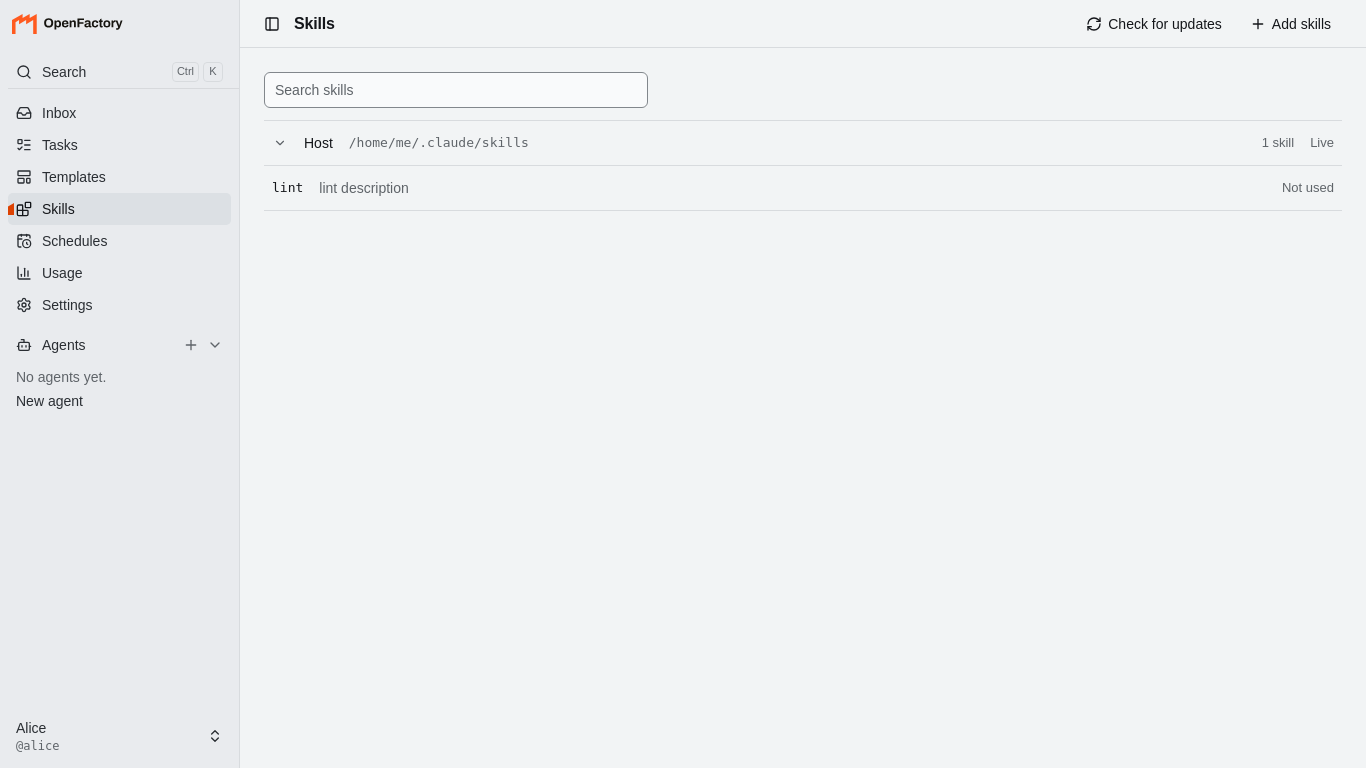
Scenario: a folder Find error for path lands on its field
Click the button "Add skills" at (1291, 24), box [1241,8,1342,40]
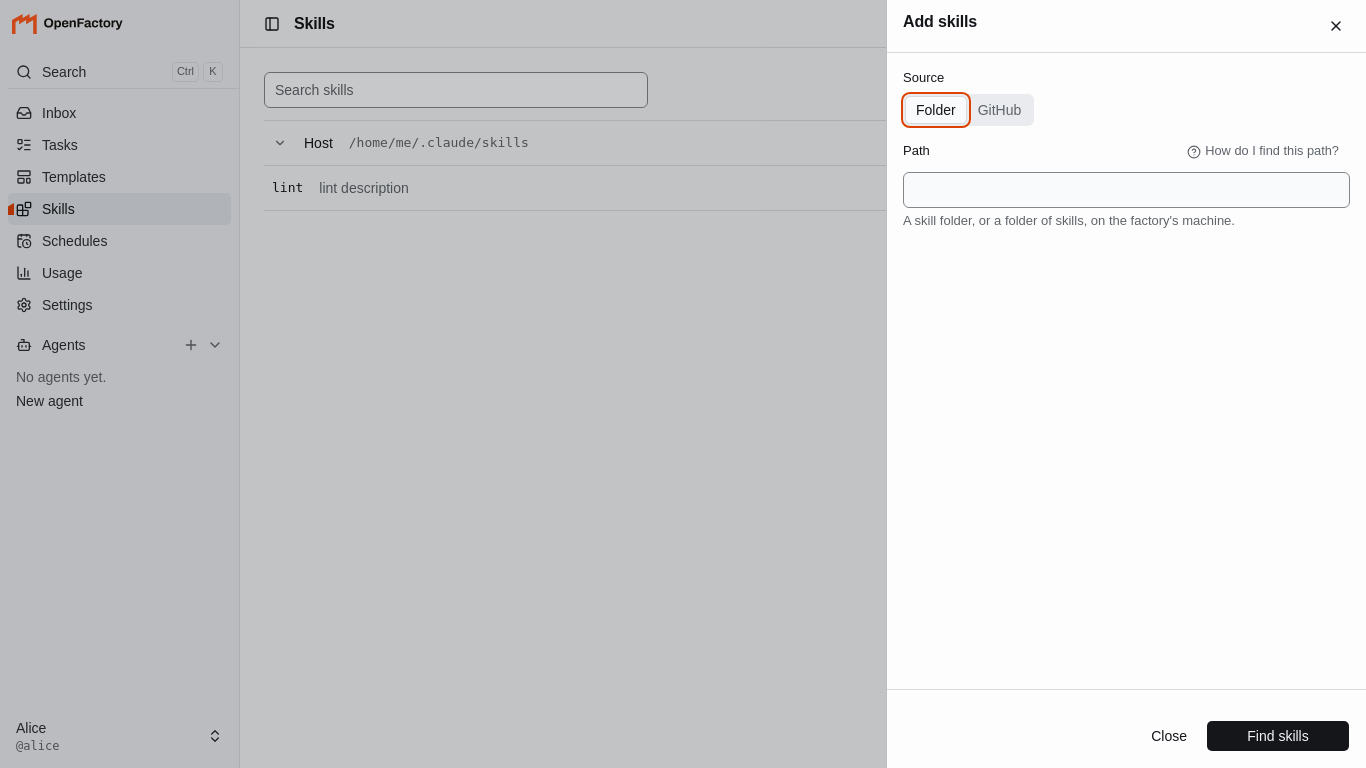
Expected: the form named "Add skills" is shown, [887,53,1365,767]
Type "~/" into the field labelled "Path" at (1126, 190), box [903,172,1350,208]
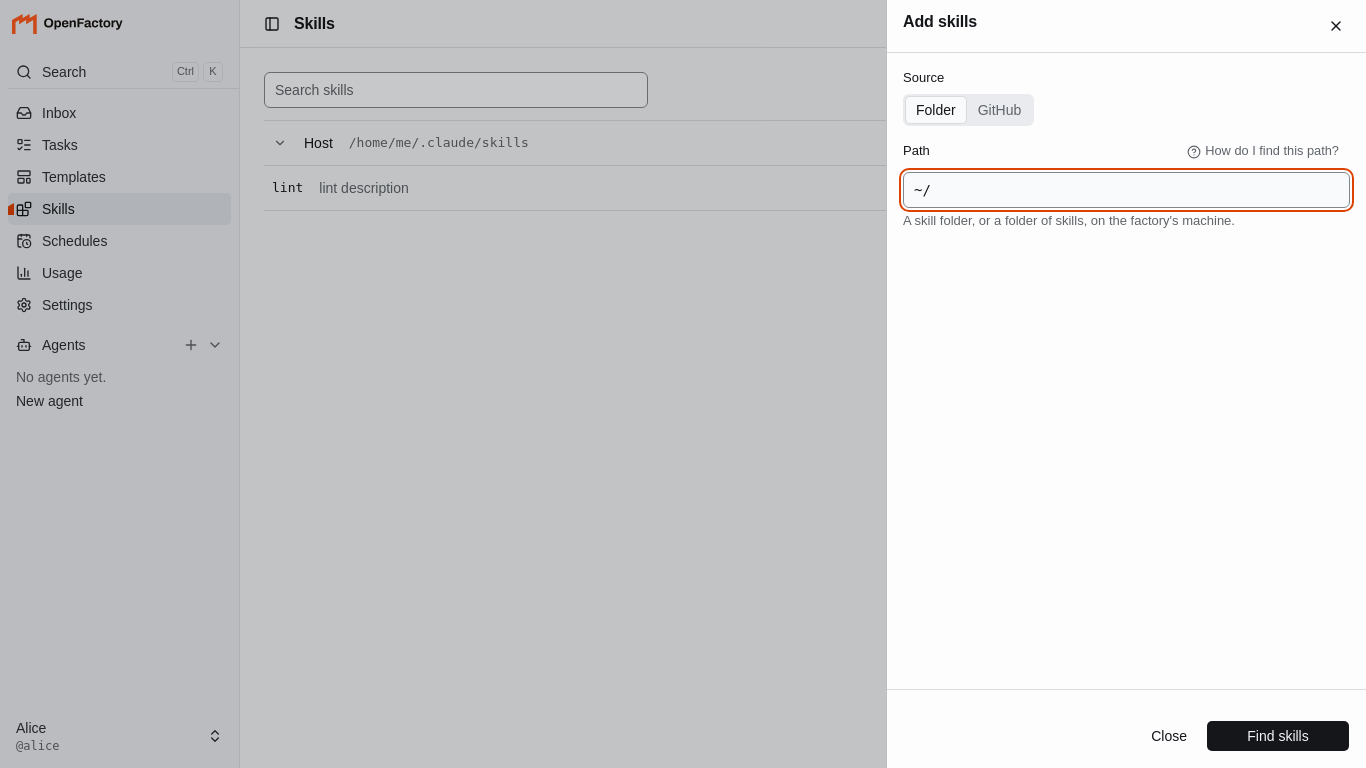
Click the button "Find skills" at (1278, 736), box [1206,720,1350,752]
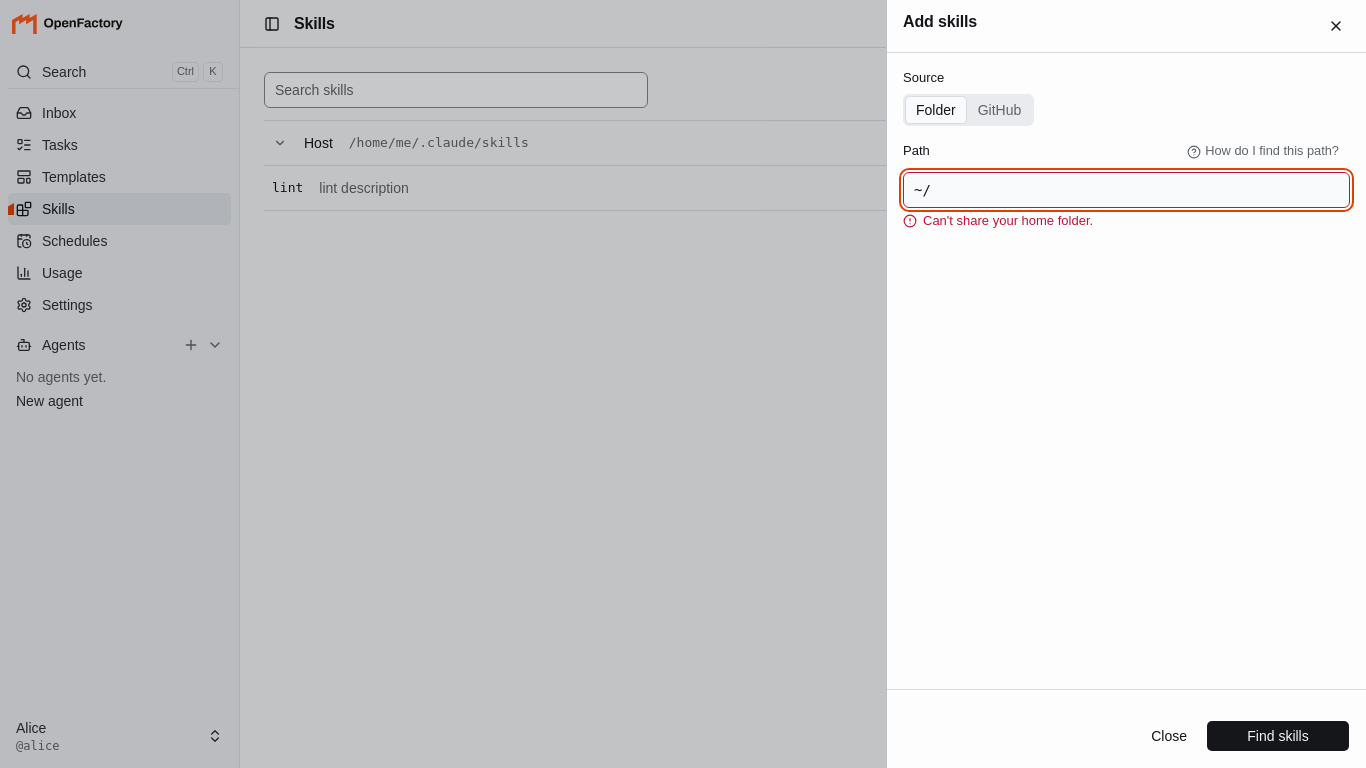
Expected: the text "Can't share your home folder." is shown, [923,212,1093,230]
